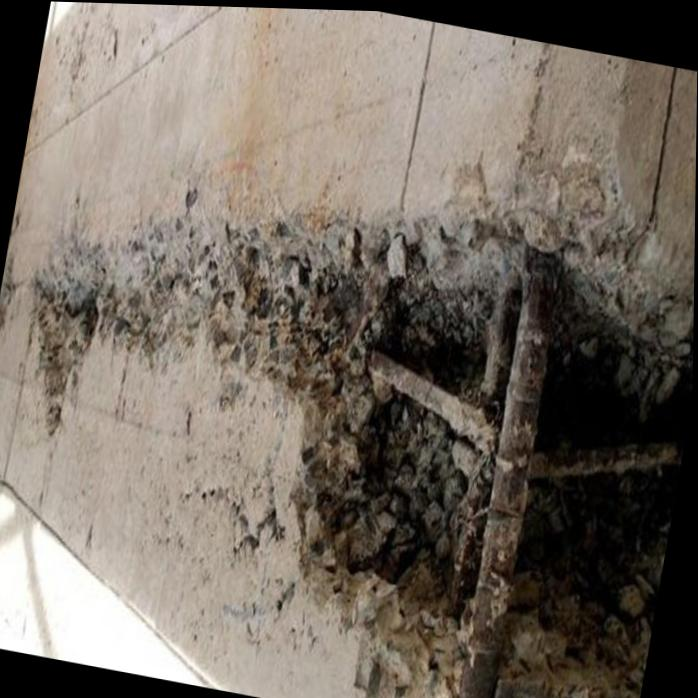crack: (183, 490, 290, 561)
damage: (0, 148, 696, 698)
